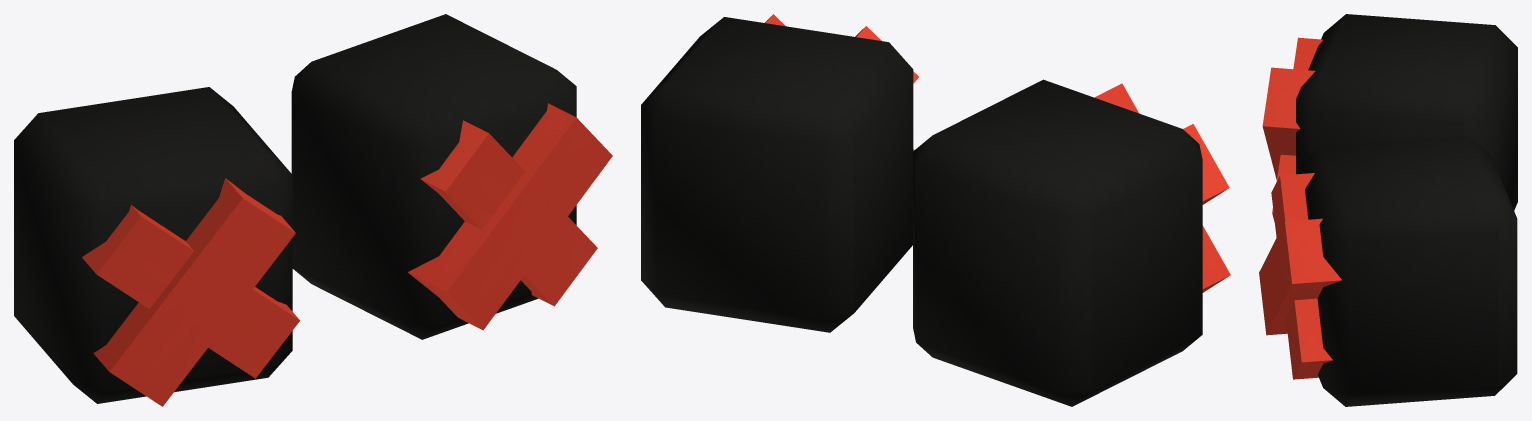
Rendered from eyes_skeleton_dead.fbx.
The picture shows the model from 3 angles, left to right: view 1: azimuth 30°, elevation 25°; view 2: azimuth 150°, elevation 25°; view 3: azimuth 270°, elevation 25°; orthographic projection. The views are drawn at different scales.
Parts seen in each view (by area): view 1: eyes_skeleton_dead; view 2: eyes_skeleton_dead; view 3: eyes_skeleton_dead.
Boxes of the visible parts, left/top/right/bottom form: eyes_skeleton_dead: left=14, top=14, right=612, bottom=406; eyes_skeleton_dead: left=641, top=14, right=1230, bottom=406; eyes_skeleton_dead: left=1259, top=14, right=1517, bottom=406.
Bounding box in the file's own units: 39.58 × 16.53 × 19.82.
